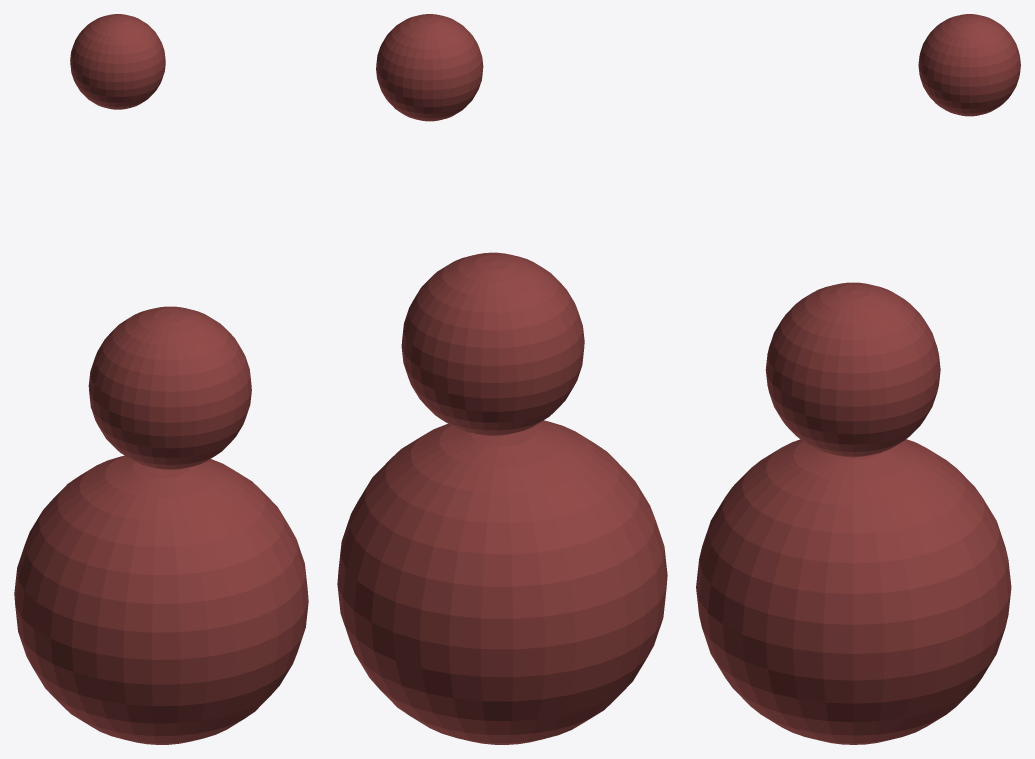
The model's file is 3kugeln.glb.
3 views of the same model, side by side, from view 1: azimuth 30°, elevation 25°; view 2: azimuth 150°, elevation 25°; view 3: azimuth 270°, elevation 25° (orthographic). The views are drawn at different scales.
Parts seen in each view (by area): view 1: Sphere001, Sphere002; view 2: Sphere001, Sphere002; view 3: Sphere001, Sphere002.
Part boxes in pixels (left/top/right/bottom): Sphere001: left=14, top=306, right=308, bottom=744; Sphere002: left=70, top=14, right=165, bottom=109; Sphere001: left=337, top=252, right=667, bottom=744; Sphere002: left=376, top=14, right=483, bottom=121; Sphere001: left=696, top=282, right=1011, bottom=744; Sphere002: left=918, top=14, right=1020, bottom=116.
Size of the model in its own units: 0.5 by 1.25 by 0.5151.
